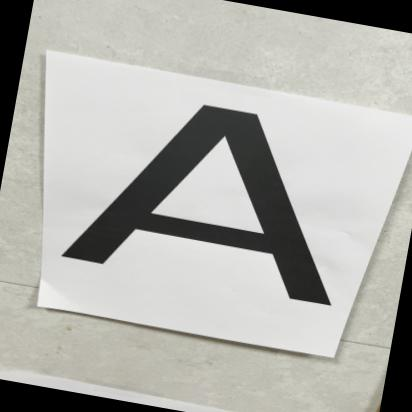seat: (35, 64, 370, 342)
